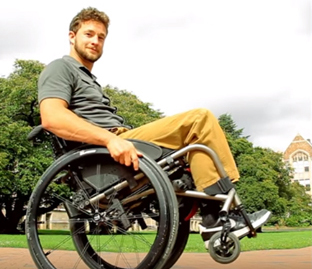person: (40, 1, 153, 145)
wheelchair: (23, 117, 268, 266)
